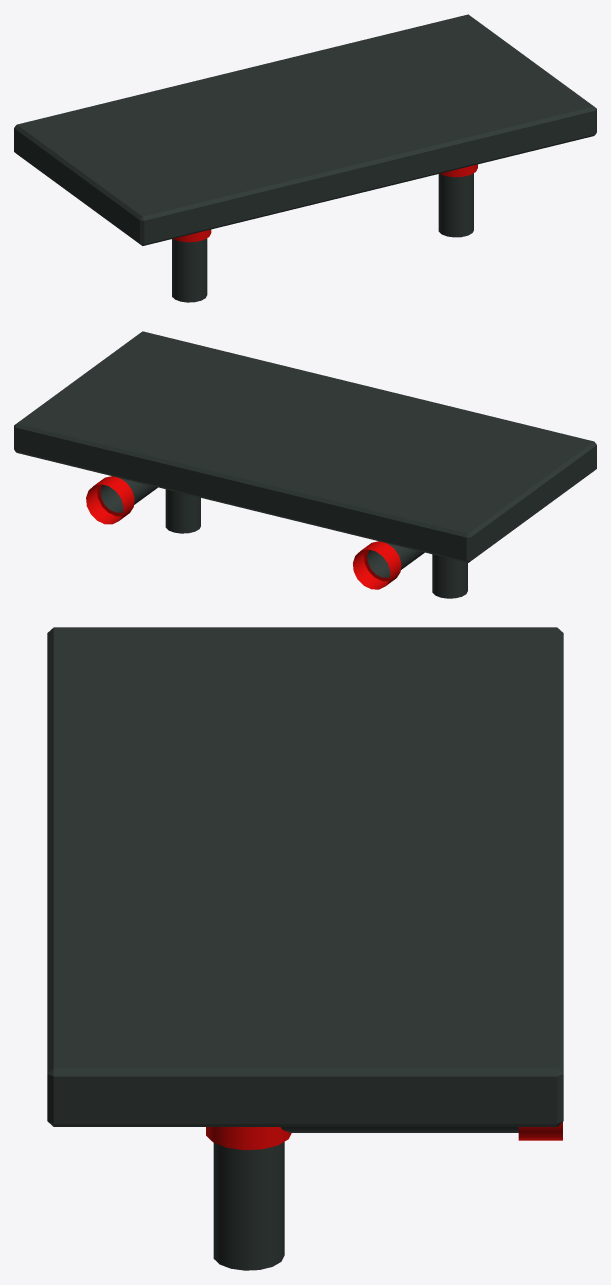
Rendered from SM_Shelf.fbx.
3 views of the same model, one above another, from view 1: azimuth 30°, elevation 25°; view 2: azimuth 150°, elevation 25°; view 3: azimuth 270°, elevation 25° (orthographic). The views are drawn at different scales.
Parts seen in each view (by area): view 1: SM_Shelf; view 2: SM_Shelf; view 3: SM_Shelf.
Boxes of the visible parts, x1=… form: SM_Shelf: x1=14, y1=14, x2=596, y2=302; SM_Shelf: x1=14, y1=331, x2=596, y2=598; SM_Shelf: x1=47, y1=627, x2=563, y2=1270.
Size of the model in its own units: 130 by 266 by 76.27.
